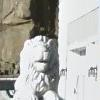Statue: (10, 27, 70, 100)
